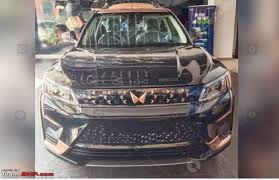XUV 400: (37, 7, 235, 173)
